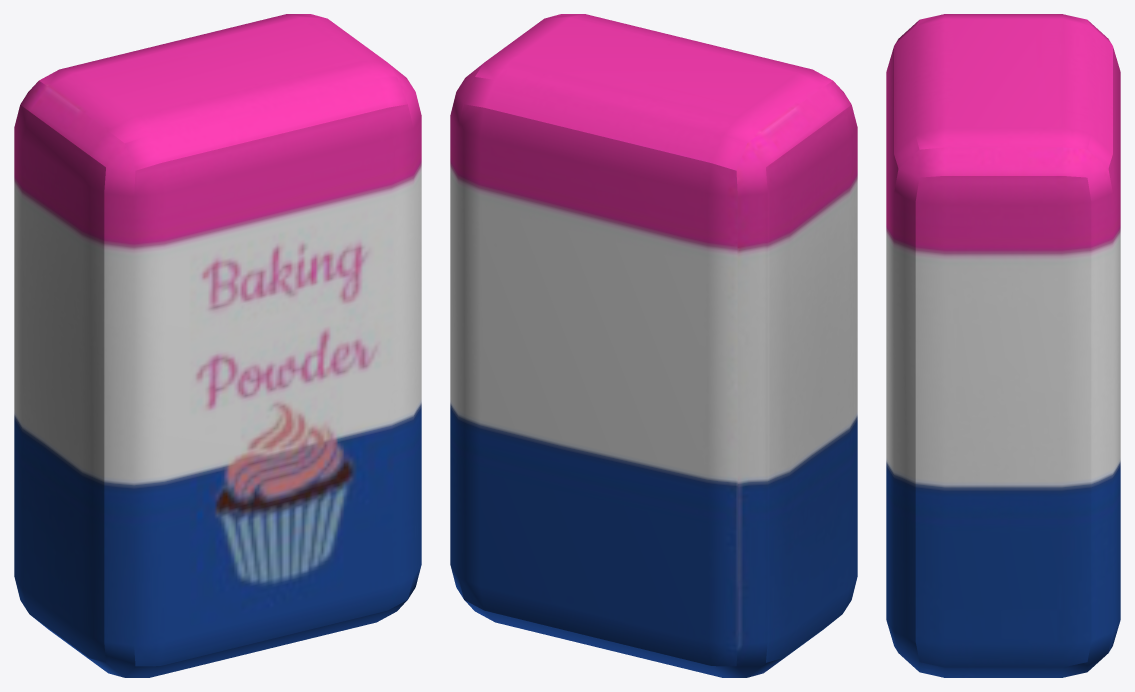
The model's file is bakingPowder.gltf.
The picture shows the model from 3 angles, left to right: view 1: azimuth 30°, elevation 25°; view 2: azimuth 150°, elevation 25°; view 3: azimuth 270°, elevation 25°; orthographic projection. The views are drawn at different scales.
Visible parts, largest first — view 1: BakingPowder; view 2: BakingPowder; view 3: BakingPowder.
Part boxes in pixels (bbox=[...]): BakingPowder: bbox=[14, 14, 421, 677]; BakingPowder: bbox=[450, 14, 857, 677]; BakingPowder: bbox=[886, 14, 1120, 677].
Size of the model in its own units: 0.1297 by 0.2083 by 0.0813.
Materials: 1 (1 with a texture image).
